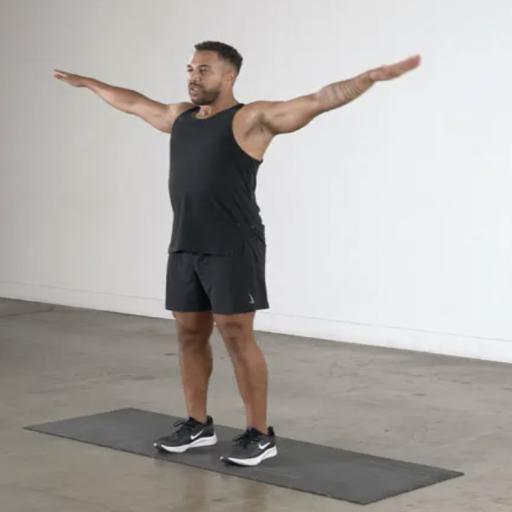Normal_PullUps: (14, 10, 454, 445)
